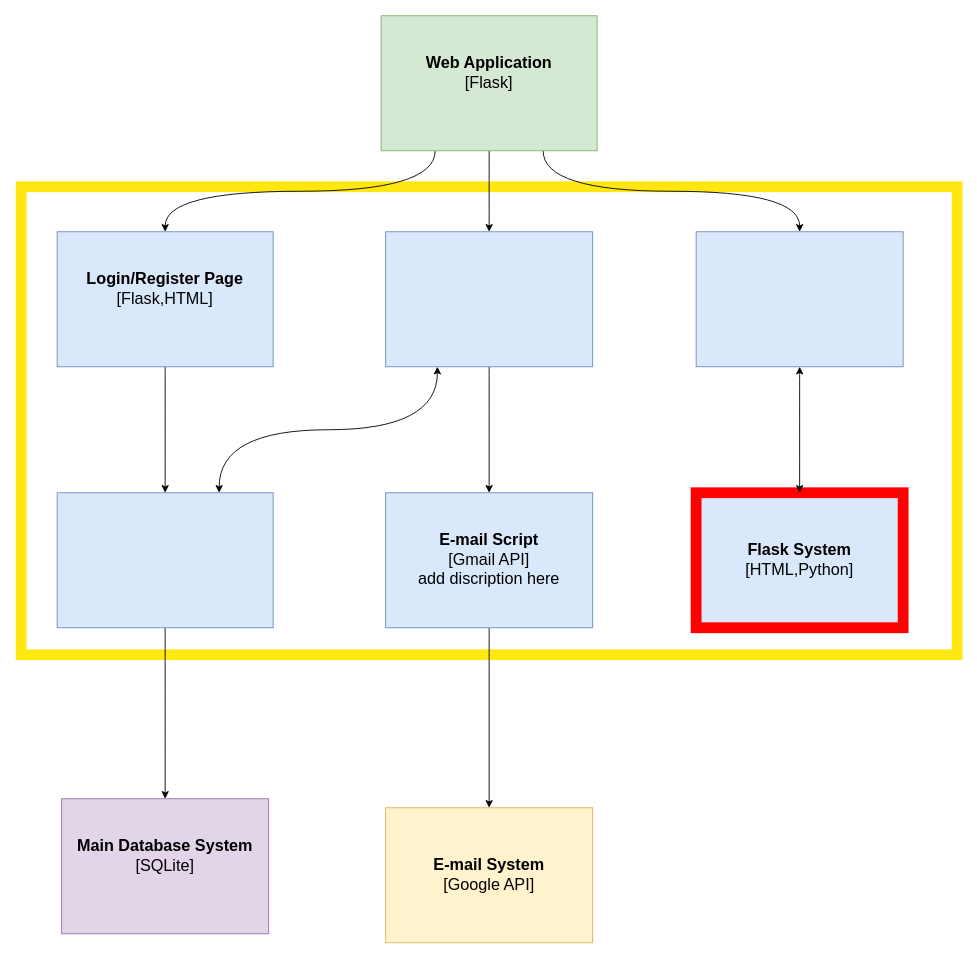
The diagram is 977 pixels wide and 959 high, and some of its shapes have lost their labels. The shapes that lost their labels are listed below. From the top down, each one's centre as x and y in pixels, then its label:
At (489,299): "Reset Password [HTML,Python]".
At (799,299): "All Pages [HTML,Python]".
At (164,560): "Database Script [Python,SQL]".
